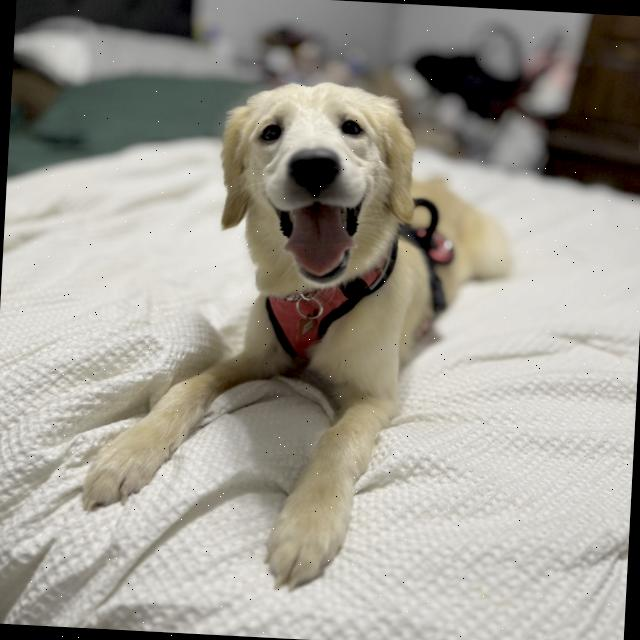golden_retriever_dog: (200, 70, 431, 308)
